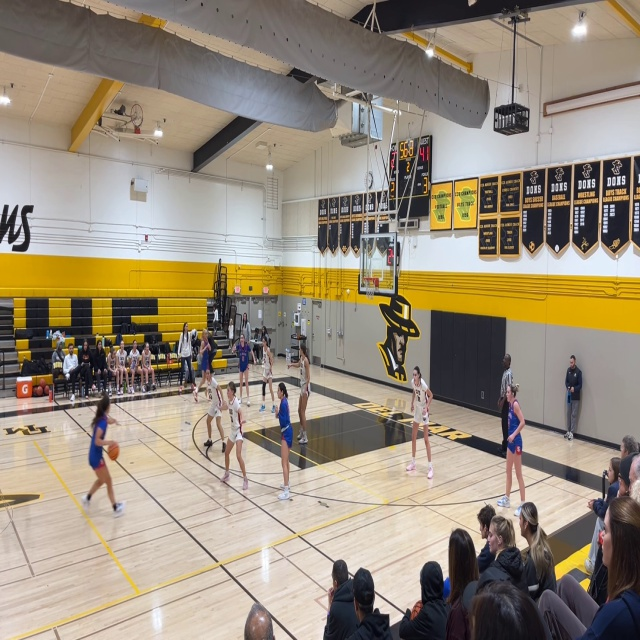Basketball: (107, 443, 119, 460)
